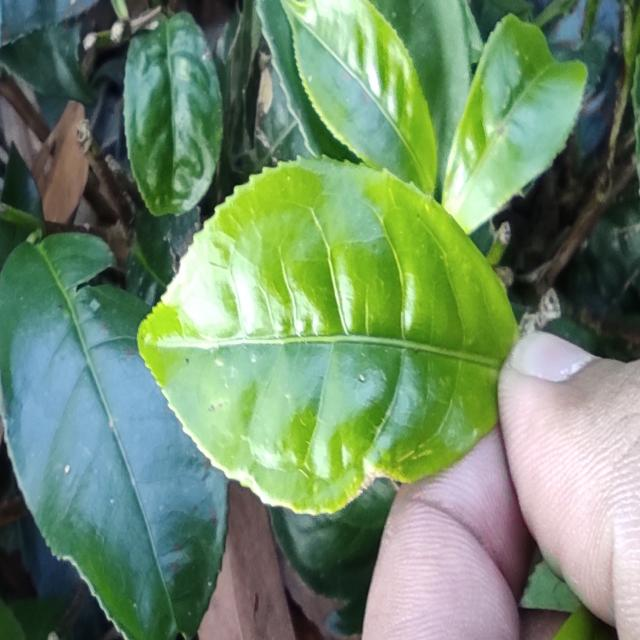Category C 4-7 days: (120, 142, 526, 522)
